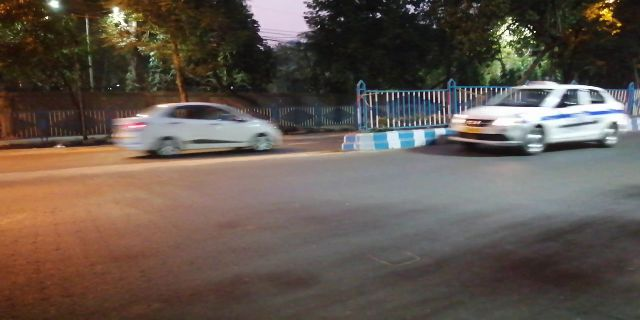Car: (449, 78, 632, 166), (105, 93, 292, 160)
